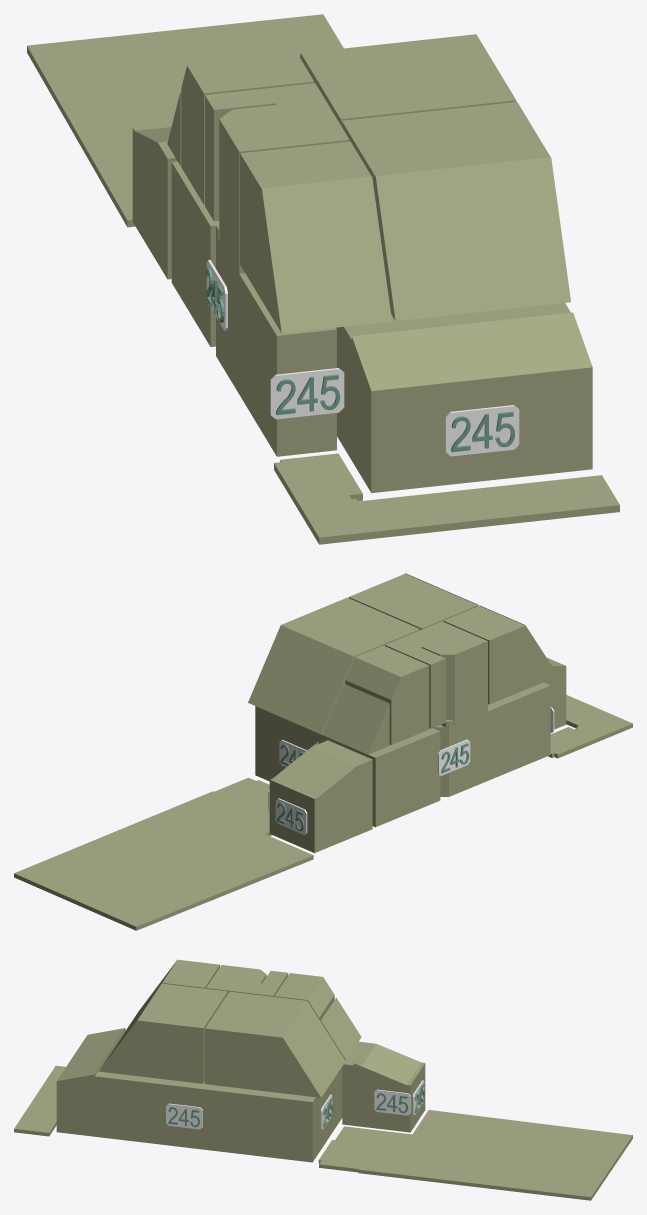
3 views of the same model, one above another, from view 1: azimuth 30°, elevation 25°; view 2: azimuth 150°, elevation 25°; view 3: azimuth 270°, elevation 25° (orthographic). The views are drawn at different scales.
Parts seen in each view (by area): view 1: g_1, g_8, g_9, g_13, g_7, g_15, g_4, g_10, g_6, g_14, g_0, g_5 (+4 smaller); view 2: g_13, g_7, g_5, g_0, g_6, g_9, g_4, g_8, g_11, g_12, g_2, g_10 (+5 smaller); view 3: g_13, g_1, g_7, g_8, g_0, g_5, g_15, g_6, g_9, g_12, g_10, g_43 (+2 smaller).
Boxes of the visible parts, x1,y1,x2,y2 form: g_1: [336, 303, 592, 493]; g_8: [341, 102, 570, 320]; g_9: [240, 141, 391, 333]; g_13: [27, 14, 343, 227]; g_7: [300, 34, 516, 126]; g_15: [358, 475, 619, 538]; g_4: [240, 275, 336, 456]; g_10: [205, 83, 349, 221]; g_6: [181, 53, 314, 204]; g_14: [274, 453, 375, 544]; g_0: [171, 161, 219, 346]; g_5: [132, 123, 177, 279]; g_13: [14, 777, 313, 930]; g_7: [248, 597, 420, 734]; g_5: [269, 740, 372, 852]; g_0: [255, 706, 440, 827]; g_6: [345, 645, 429, 744]; g_9: [443, 605, 558, 704]; g_4: [488, 682, 550, 779]; g_8: [348, 573, 478, 629]; g_11: [422, 633, 487, 719]; g_12: [322, 684, 389, 754]; g_2: [433, 706, 489, 796]; g_10: [385, 621, 468, 728]; g_13: [318, 1110, 632, 1200]; g_1: [56, 1028, 238, 1153]; g_7: [205, 991, 345, 1097]; g_8: [99, 983, 227, 1083]; g_0: [236, 1067, 342, 1162]; g_5: [342, 1041, 425, 1132]; g_15: [14, 1077, 57, 1136]; g_6: [274, 973, 334, 1021]; g_9: [125, 959, 219, 1031]; g_12: [321, 997, 361, 1060]; g_10: [206, 970, 288, 996]; g_43: [166, 1103, 202, 1129].
Bounding box in the file's own units: 12.03 × 5.36 × 23.92.
